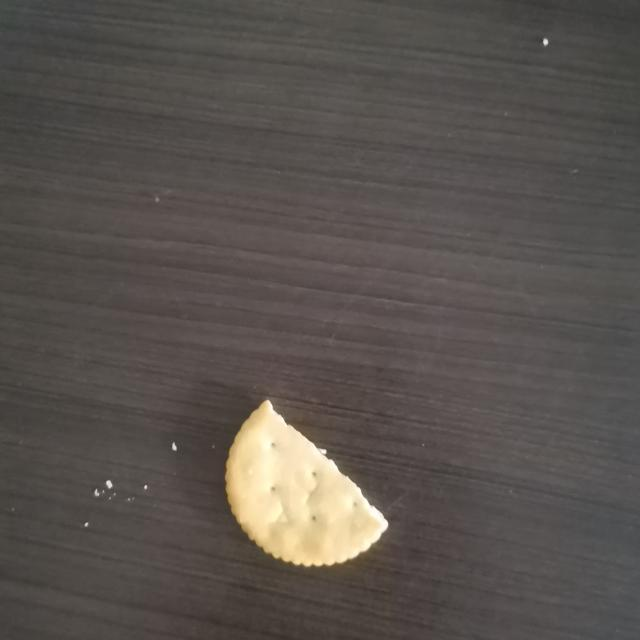Broken: (223, 398, 389, 568)
